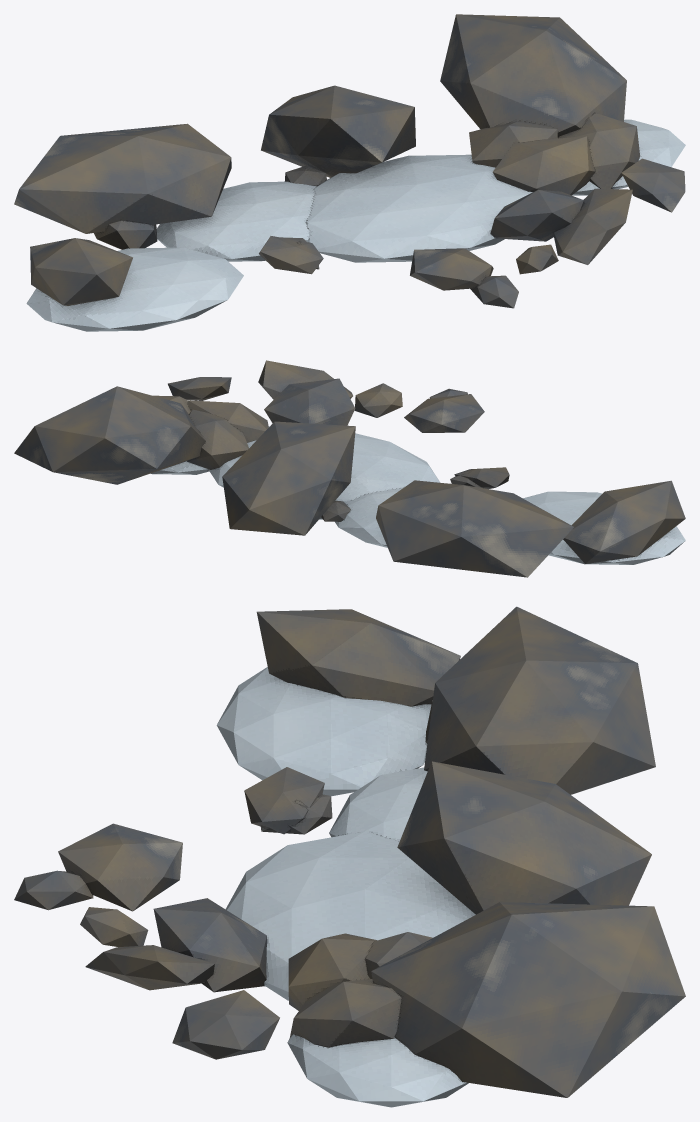
The model's file is vault_tell_snow.glb.
The picture shows the model from 3 angles, top to bottom: view 1: azimuth 30°, elevation 25°; view 2: azimuth 150°, elevation 25°; view 3: azimuth 270°, elevation 25°; orthographic projection. The views are drawn at different scales.
Visible parts, largest first — view 1: vault_tell_snow; view 2: vault_tell_snow; view 3: vault_tell_snow.
Part boxes in pixels (x1=…): vault_tell_snow: x1=14, y1=14, x2=685, y2=331; vault_tell_snow: x1=14, y1=360, x2=685, y2=577; vault_tell_snow: x1=14, y1=606, x2=685, y2=1107.
Bounding box in the file's own units: 2.03 × 0.3437 × 1.28.
2 materials, 2 textured.
